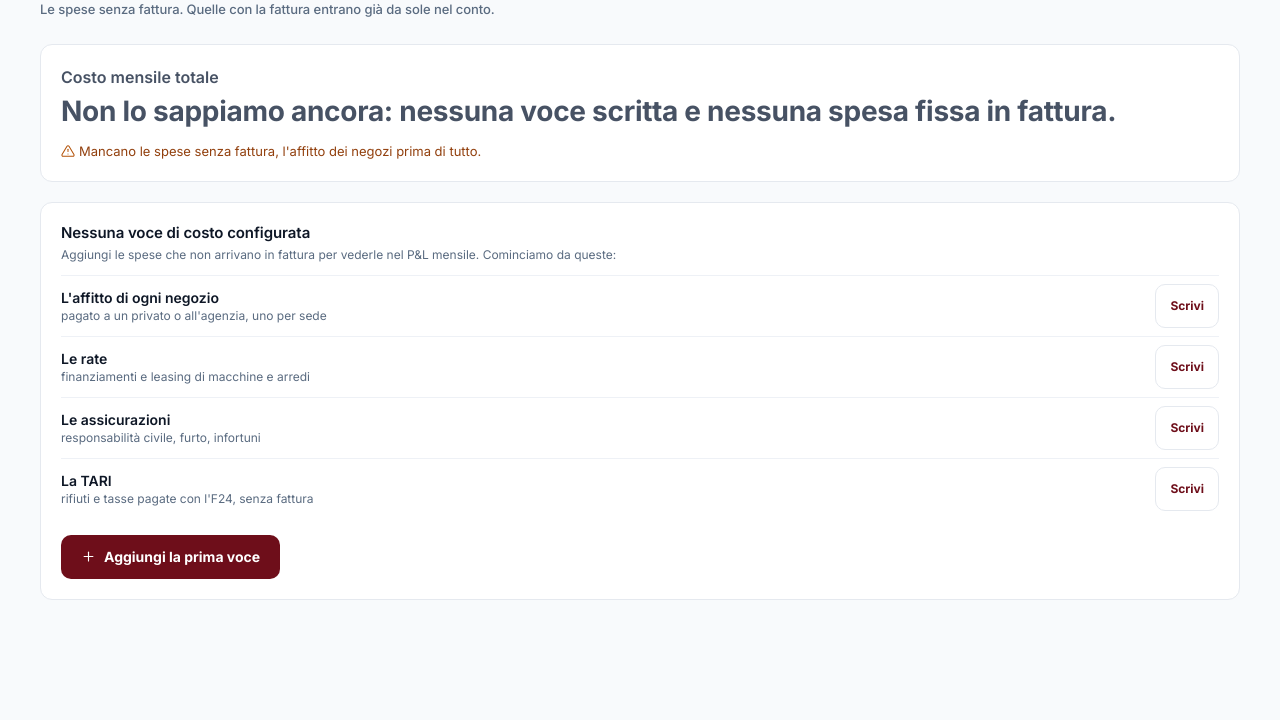
Test: la pagina con zero voci (giro del 05/10 sera: la lista era detta tre volte) › gli esempi aprono il modulo sulla categoria giusta
The image size is (1280, 720).
Click the button with aria-label "Scrivi: Le assicurazioni".
click(1187, 428)  # box 1155,406 -> 1219,450
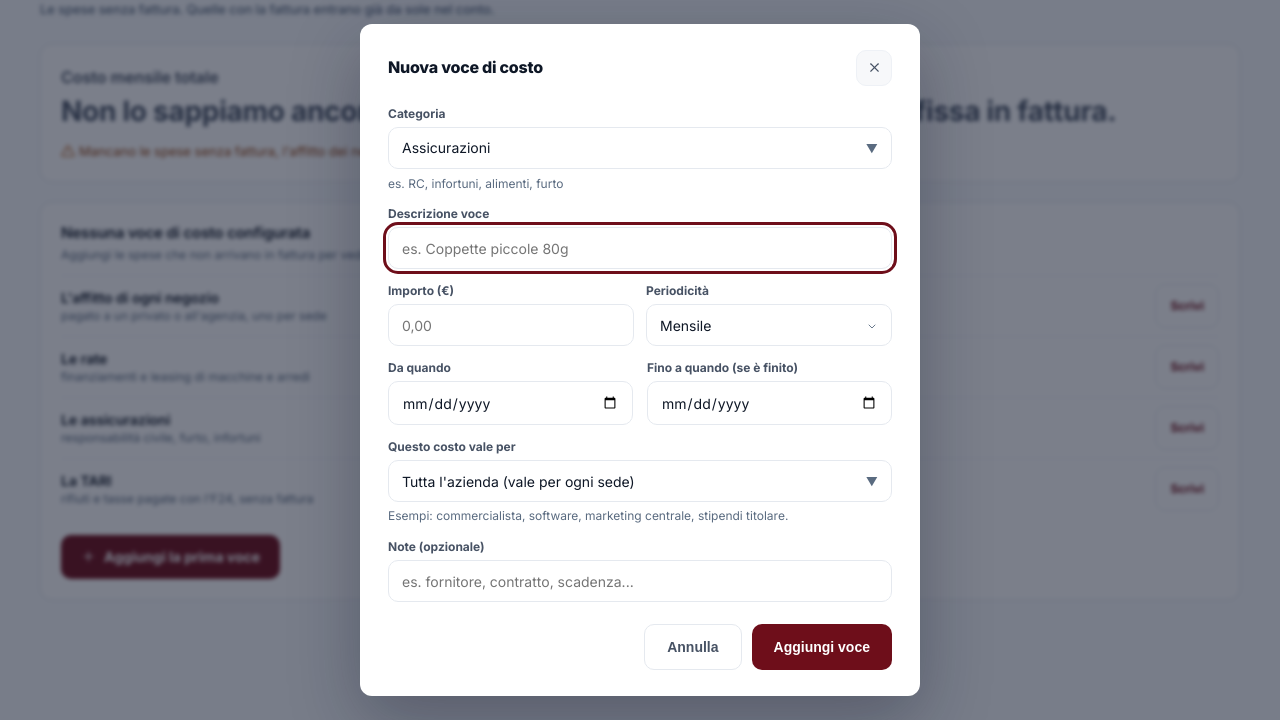
Expected: the dialog is shown
Expected: the dropdown showing "Assicurazioni" below "Categoria" is shown, 388,127 -> 892,169
